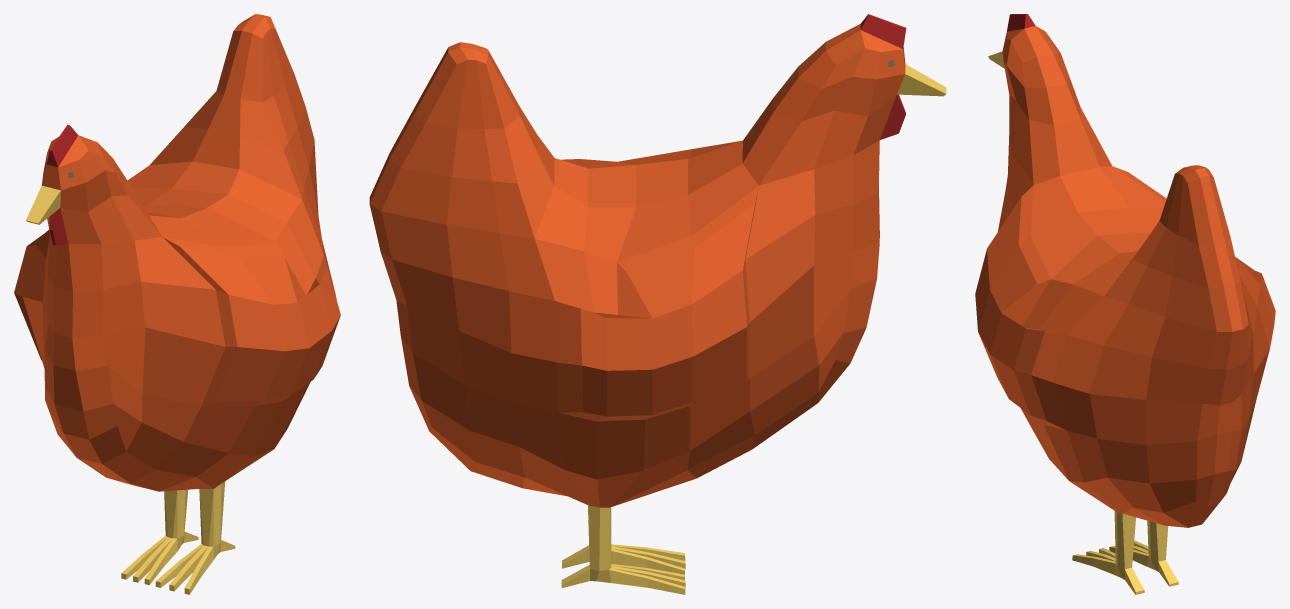
The model's file is malechicken1.gltf.
3 views of the same model, side by side, from view 1: azimuth 30°, elevation 25°; view 2: azimuth 150°, elevation 25°; view 3: azimuth 270°, elevation 25° (orthographic). The views are drawn at different scales.
Visible parts, largest first — view 1: Chicken; view 2: Chicken; view 3: Chicken.
Boxes of the visible parts, <box> form: Chicken: <box>14,14,340,594</box>; Chicken: <box>369,14,946,594</box>; Chicken: <box>975,14,1275,594</box>.
Bounding box in the file's own units: 1.25 × 1.52 × 0.8629.
